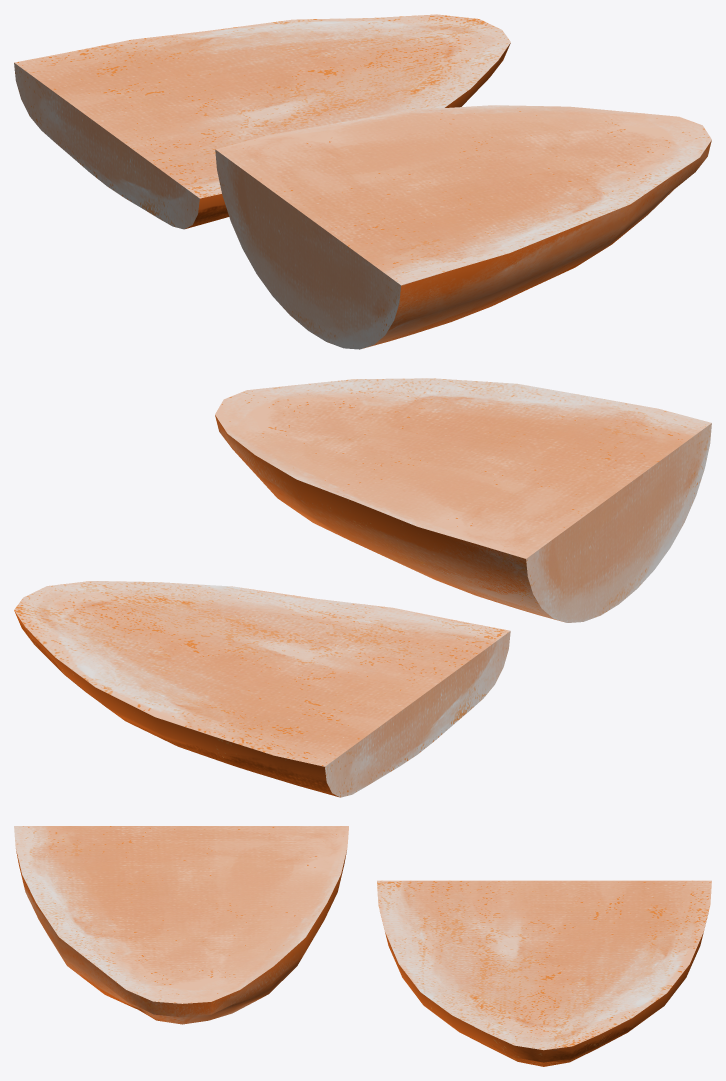
The model's file is ekmek_yarim_acik.fbx.
The picture shows the model from 3 angles, top to bottom: view 1: azimuth 30°, elevation 25°; view 2: azimuth 150°, elevation 25°; view 3: azimuth 270°, elevation 25°; orthographic projection. The views are drawn at different scales.
Parts seen in each view (by area): view 1: Sphere.011, Sphere.012; view 2: Sphere.011, Sphere.012; view 3: Sphere.011, Sphere.012.
Boxes of the visible parts, <box> form: Sphere.011: <box>215,105,711,349</box>; Sphere.012: <box>14,14,510,229</box>; Sphere.011: <box>215,378,711,622</box>; Sphere.012: <box>14,581,510,797</box>; Sphere.011: <box>14,826,348,1024</box>; Sphere.012: <box>377,880,711,1066</box>.
Bounding box in the file's own units: 145 × 42.95 × 247.
